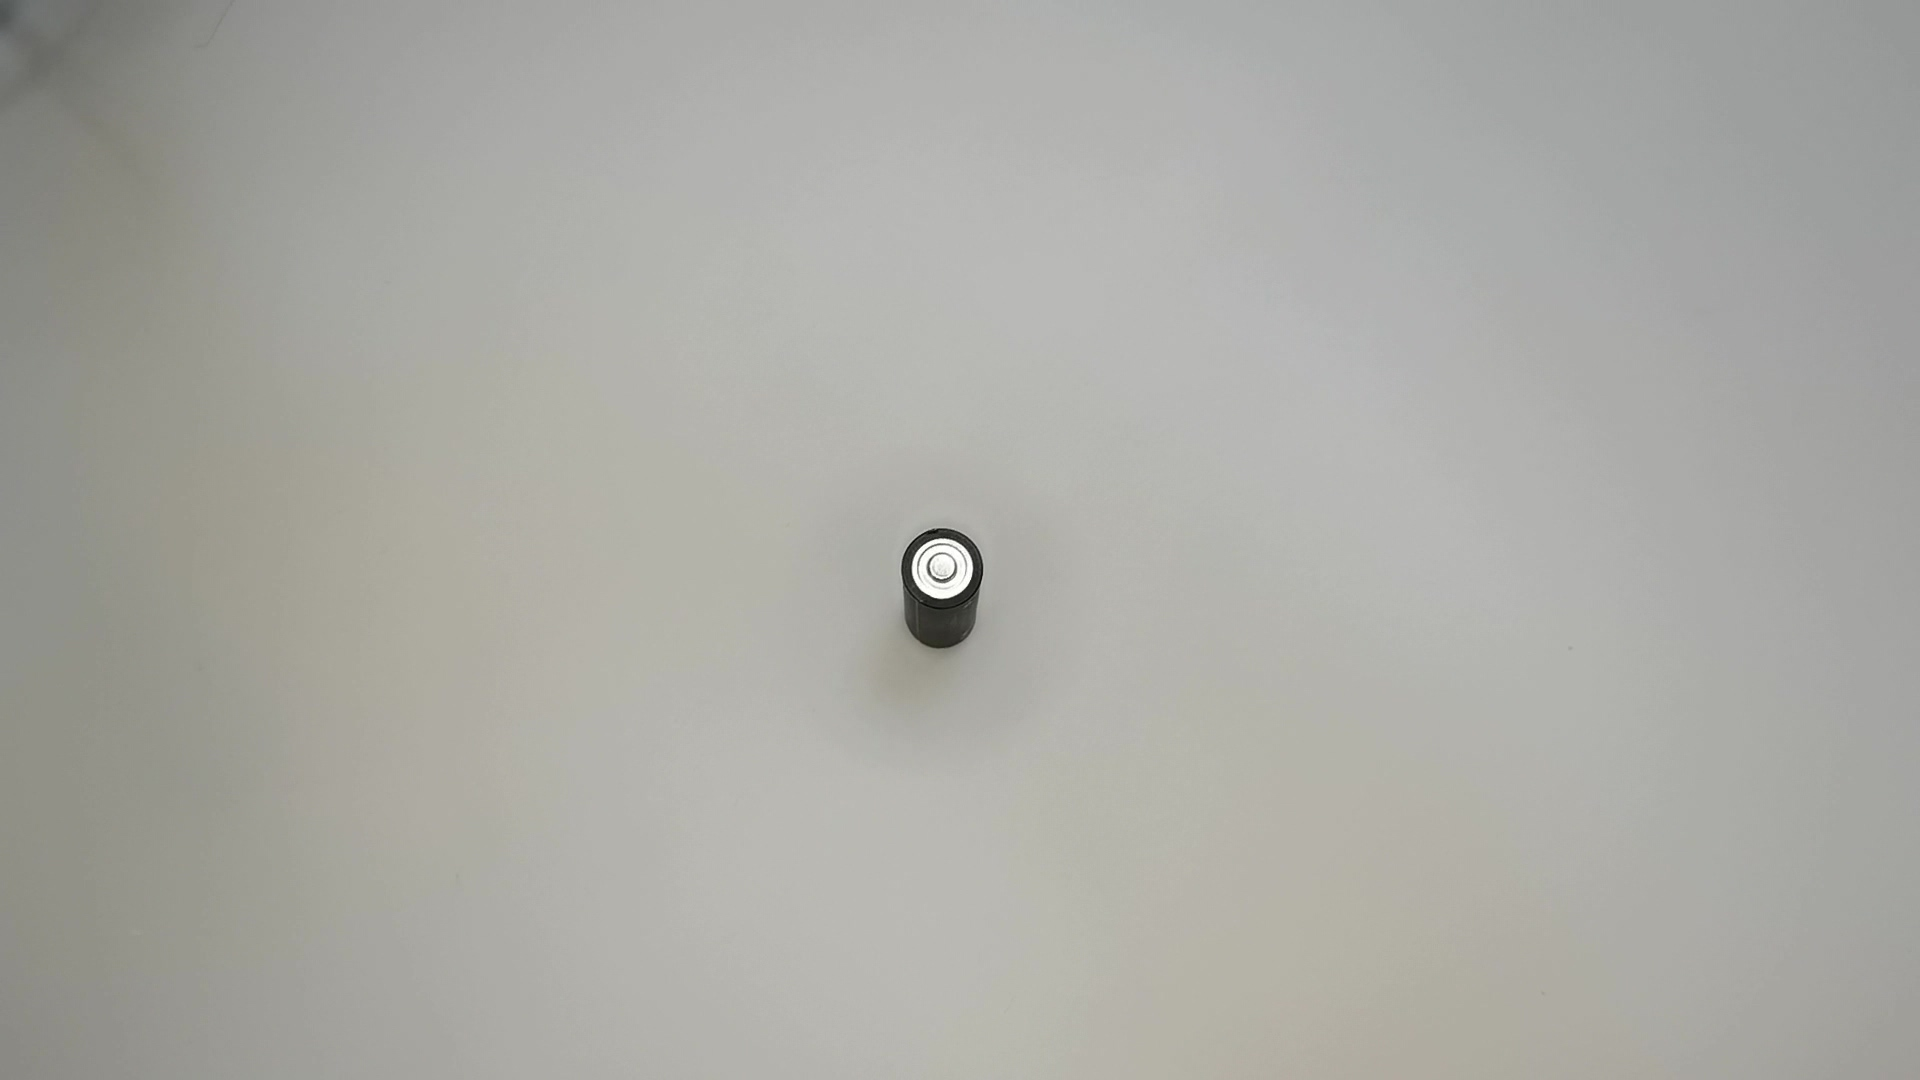battery: (893, 520, 996, 663)
